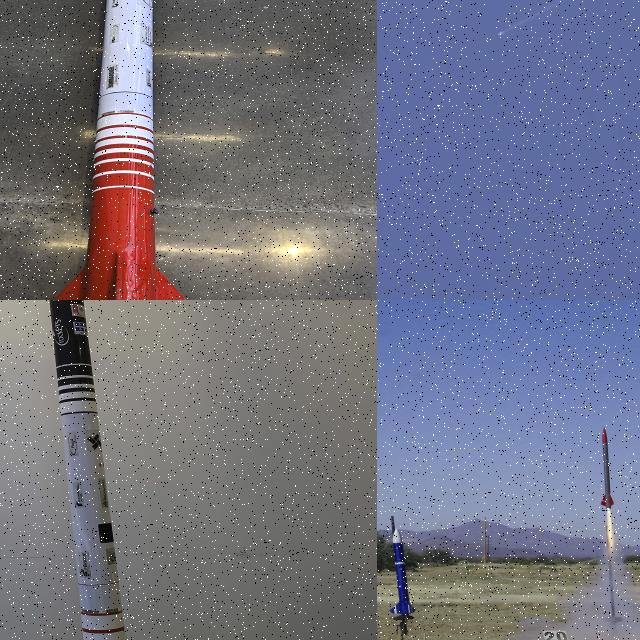Rocket: (53, 0, 187, 300), (49, 300, 127, 640), (387, 527, 417, 615), (601, 426, 615, 510), (498, 33, 502, 36)
